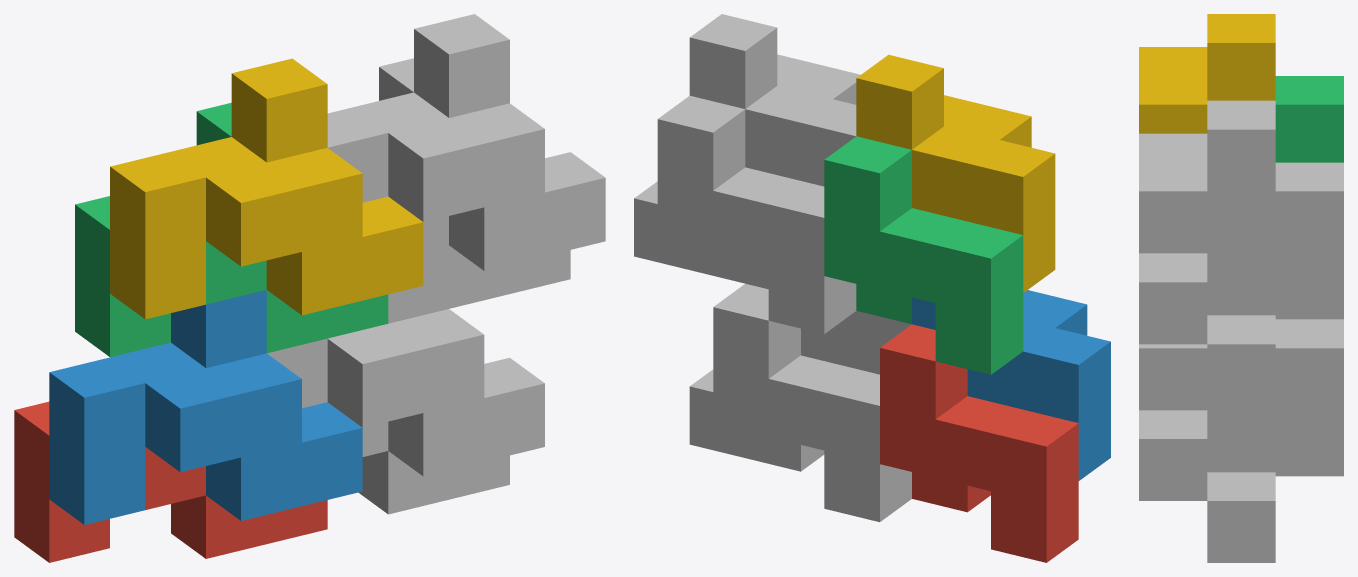
The model's file is tiling.obj.
3 views of the same model, side by side, from view 1: azimuth 30°, elevation 25°; view 2: azimuth 150°, elevation 25°; view 3: azimuth 270°, elevation 25° (orthographic). The views are drawn at different scales.
Visible parts, largest first — view 1: copy_1_domain_4, copy_1_domain_2, copy_1_domain_8, copy_1_domain_6, copy_1_domain_1, copy_1_domain_3, copy_1_domain_5, copy_1_domain_7; view 2: copy_1_domain_3, copy_1_domain_7, copy_1_domain_1, copy_1_domain_5, copy_1_domain_4, copy_1_domain_8, copy_1_domain_2, copy_1_domain_6; view 3: copy_1_domain_8, copy_1_domain_5, copy_1_domain_7, copy_1_domain_4, copy_1_domain_6, copy_1_domain_3.
Boxes of the visible parts, x1=… form: copy_1_domain_4: x1=110, y1=58, x2=423, y2=319; copy_1_domain_2: x1=49, y1=290, x2=362, y2=524; copy_1_domain_8: x1=327, y1=14, x2=605, y2=270; copy_1_domain_6: x1=267, y1=245, x2=544, y2=476; copy_1_domain_1: x1=14, y1=401, x2=327, y2=562; copy_1_domain_3: x1=75, y1=102, x2=388, y2=357; copy_1_domain_5: x1=358, y1=421, x2=509, y2=514; copy_1_domain_7: x1=379, y1=58, x2=570, y2=308; copy_1_domain_3: x1=824, y1=136, x2=1023, y2=374; copy_1_domain_7: x1=634, y1=95, x2=856, y2=334; copy_1_domain_1: x1=880, y1=324, x2=1078, y2=562; copy_1_domain_5: x1=689, y1=283, x2=911, y2=522; copy_1_domain_4: x1=856, y1=54, x2=1055, y2=292; copy_1_domain_8: x1=689, y1=14, x2=860, y2=186; copy_1_domain_2: x1=912, y1=290, x2=1110, y2=480; copy_1_domain_6: x1=745, y1=257, x2=911, y2=374; copy_1_domain_8: x1=1139, y1=100, x2=1275, y2=344; copy_1_domain_5: x1=1207, y1=319, x2=1343, y2=562; copy_1_domain_7: x1=1207, y1=162, x2=1343, y2=405; copy_1_domain_4: x1=1139, y1=14, x2=1275, y2=133; copy_1_domain_6: x1=1139, y1=344, x2=1275, y2=500; copy_1_domain_3: x1=1275, y1=76, x2=1343, y2=162.
Size of the model in its own units: 8 by 7 by 3.
